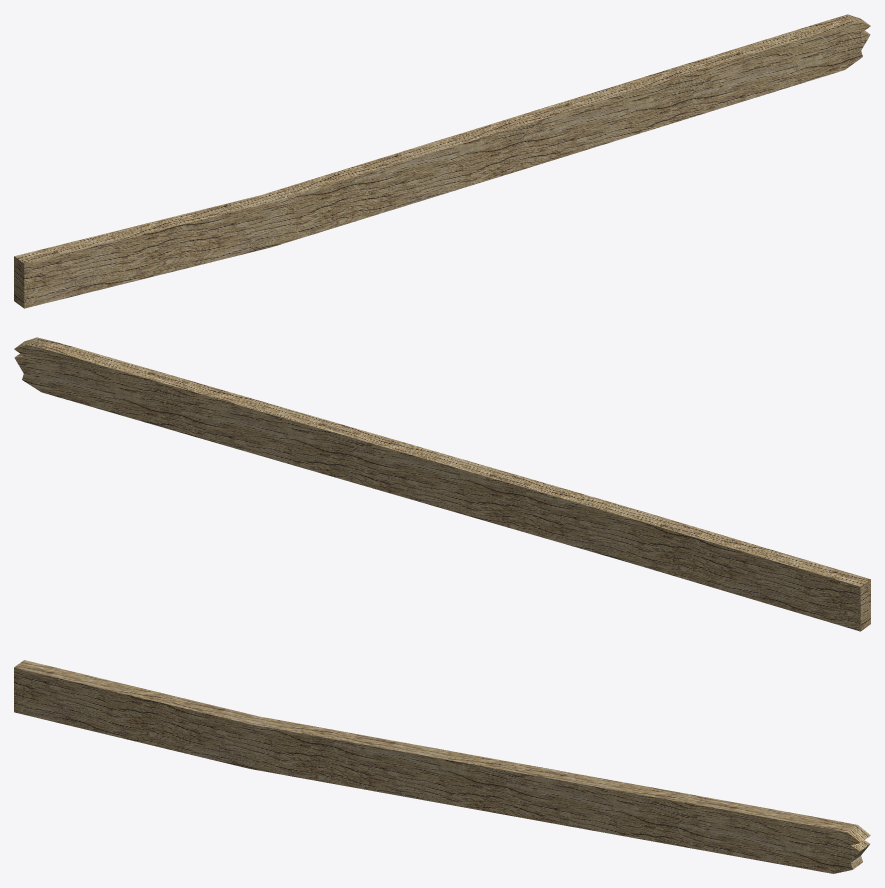
File: woodenPlank01.FBX
3 views of the same model, one above another, from view 1: azimuth 30°, elevation 25°; view 2: azimuth 150°, elevation 25°; view 3: azimuth 330°, elevation 25° (orthographic).
Parts seen in each view (by area): view 1: wooden_fence_plank_large2; view 2: wooden_fence_plank_large2; view 3: wooden_fence_plank_large2.
Boxes of the visible parts, x1,y1,x2,y2 form: wooden_fence_plank_large2: (14,14,870,308); wooden_fence_plank_large2: (14,337,870,631); wooden_fence_plank_large2: (14,660,870,873).
Size of the model in its own units: 414 by 38.9 by 13.75.
